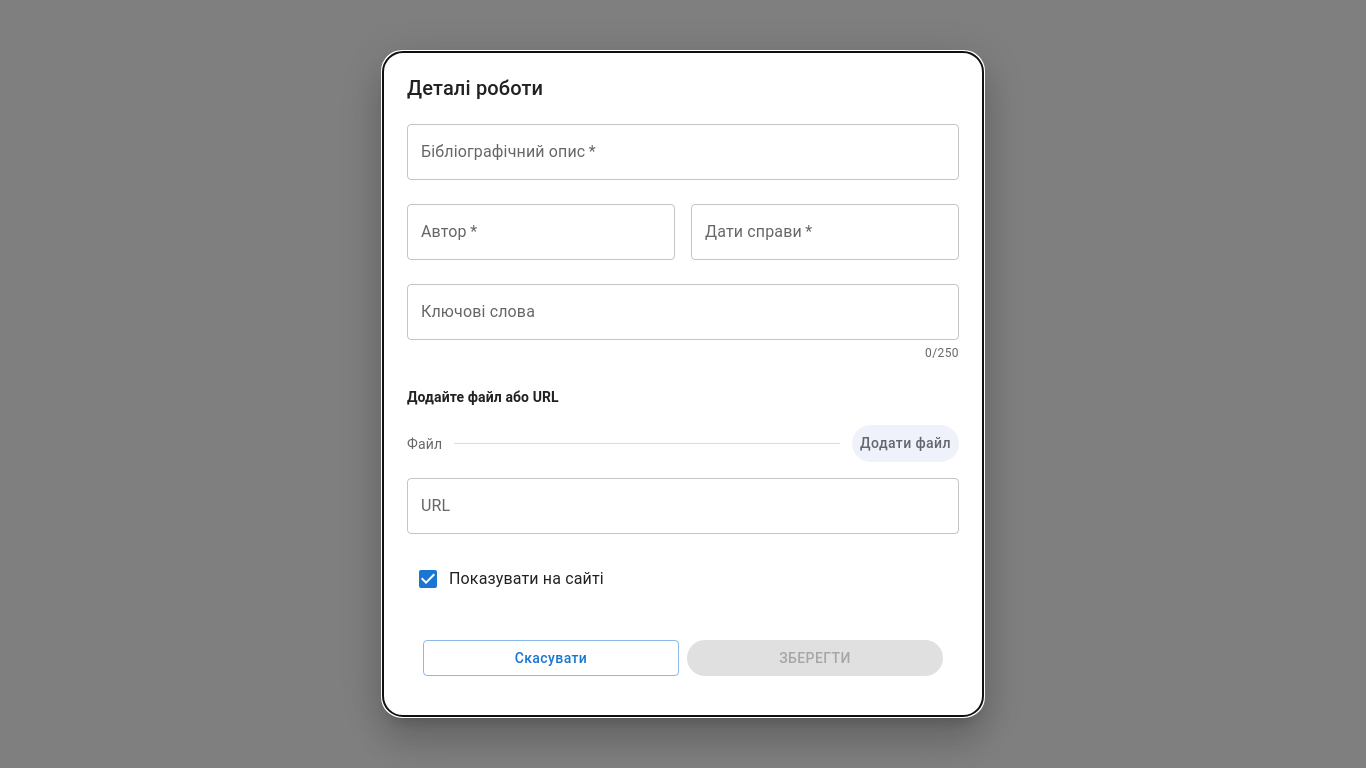
Test: ResearchModalView › keeps Save disabled until required fields are filled, including without keywords
The width and height of the screenshot is (1366, 768).
expect the button "Зберегти" is disabled: met, box [687,640,943,676]
Type "Опис" into the text box labelled "Бібліографічний опис *".
click(683, 152); type("Опис")  # box [421,140,945,163]
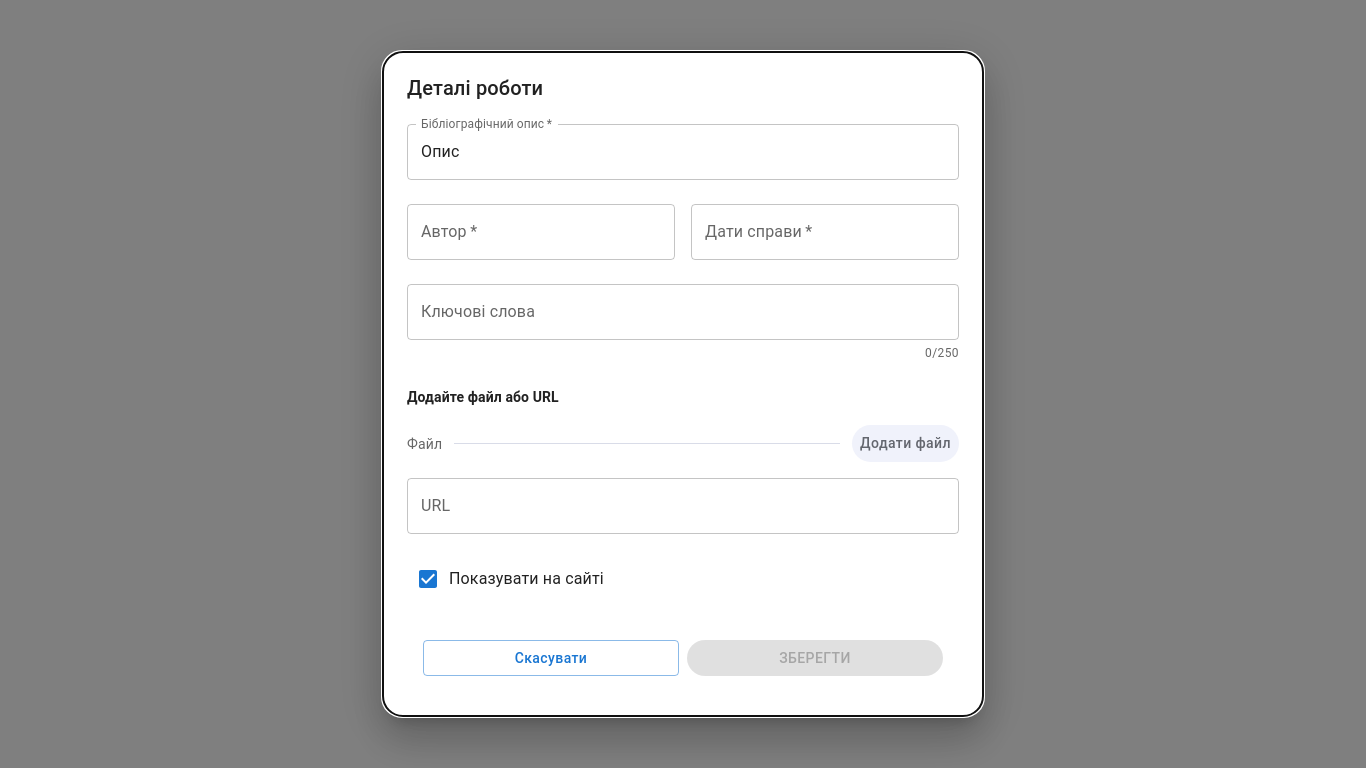
Type "Автор" into the dropdown labelled "Автор *".
click(541, 232); type("Автор")  # box [416,213,666,251]
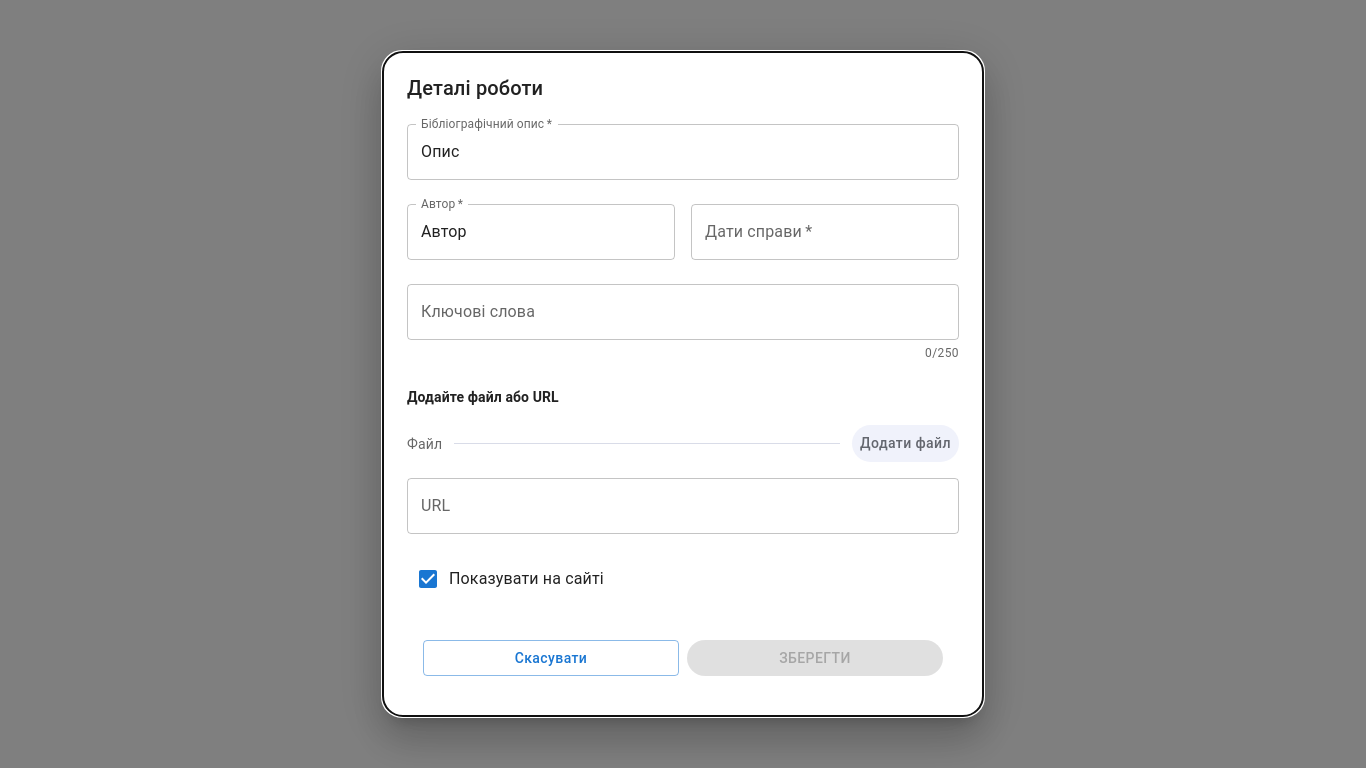
Type "1970" into the field labelled "Дати справи *".
click(825, 232); type("1970")  # box [691,204,959,260]
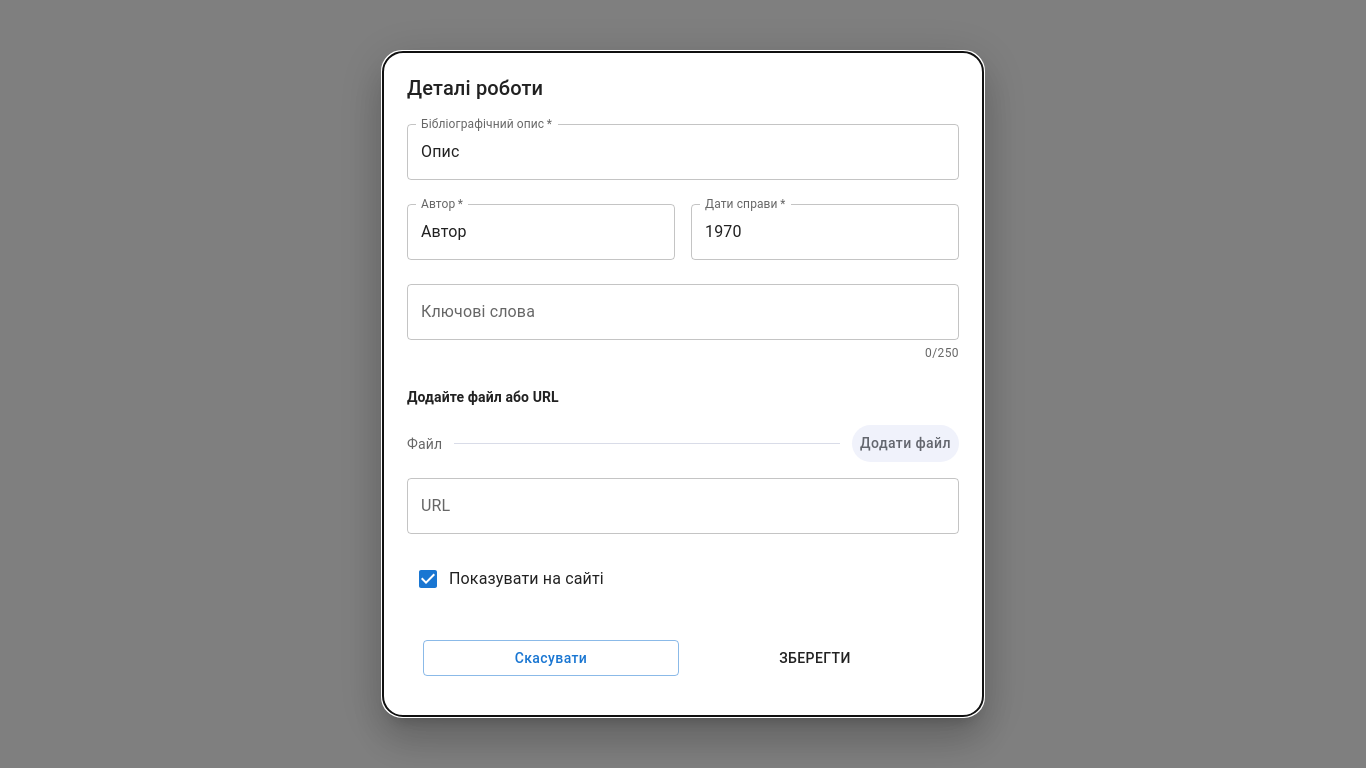
expect the button "Зберегти" is enabled: met, box [687,640,943,676]
